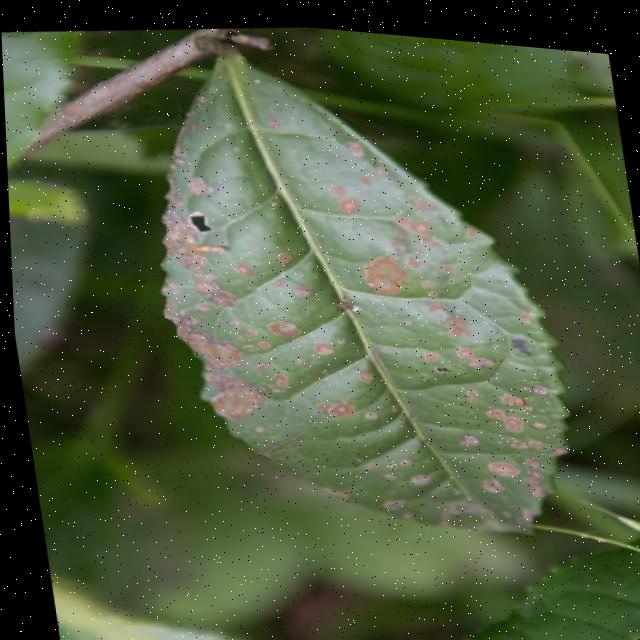Tea algae leaf spot: (106, 93, 598, 552)
